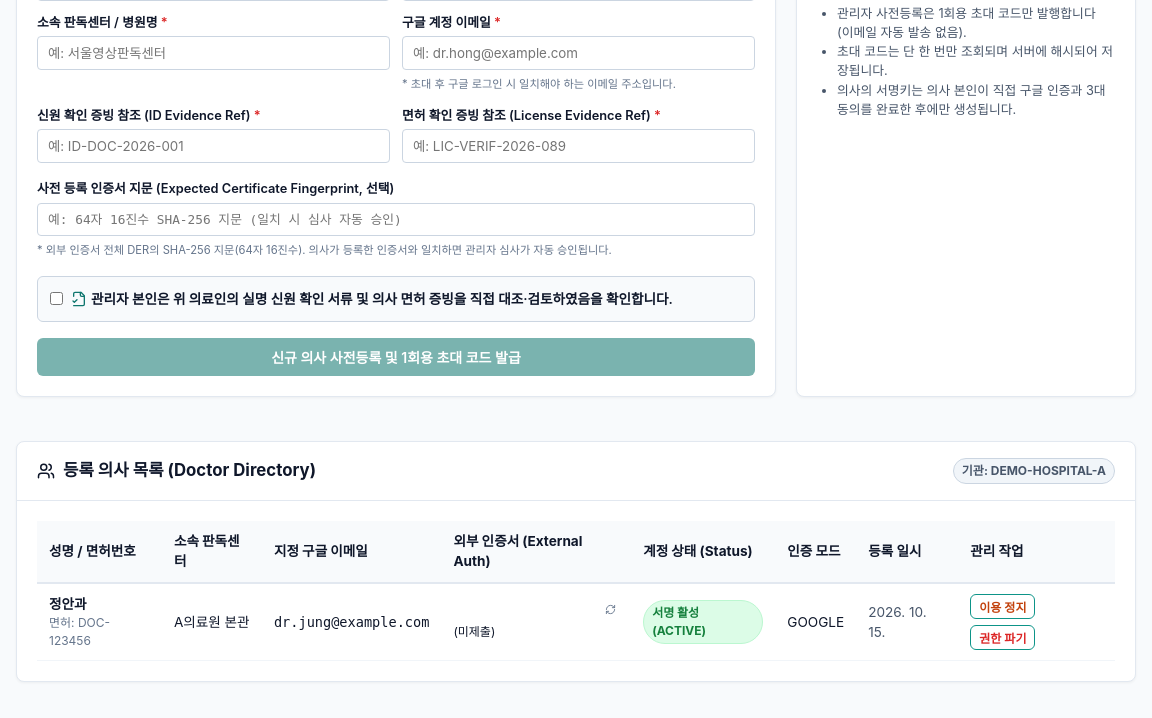
Test: DoctorAdminView Component Tests › renders directory with status chips and handles suspend action with required reason
The width and height of the screenshot is (1152, 718).
(page scrolled)
Expected: the text "정안과" is shown, [49,596,86,612]
Expected: the element with test id "status-chip-doc-active-1" shows "ACTIVE", [652,605,706,638]
# Click suspend button to open modal
Click the button with test id "suspend-btn-doc-active-1" at (1003, 606), box [970,594,1036,619]
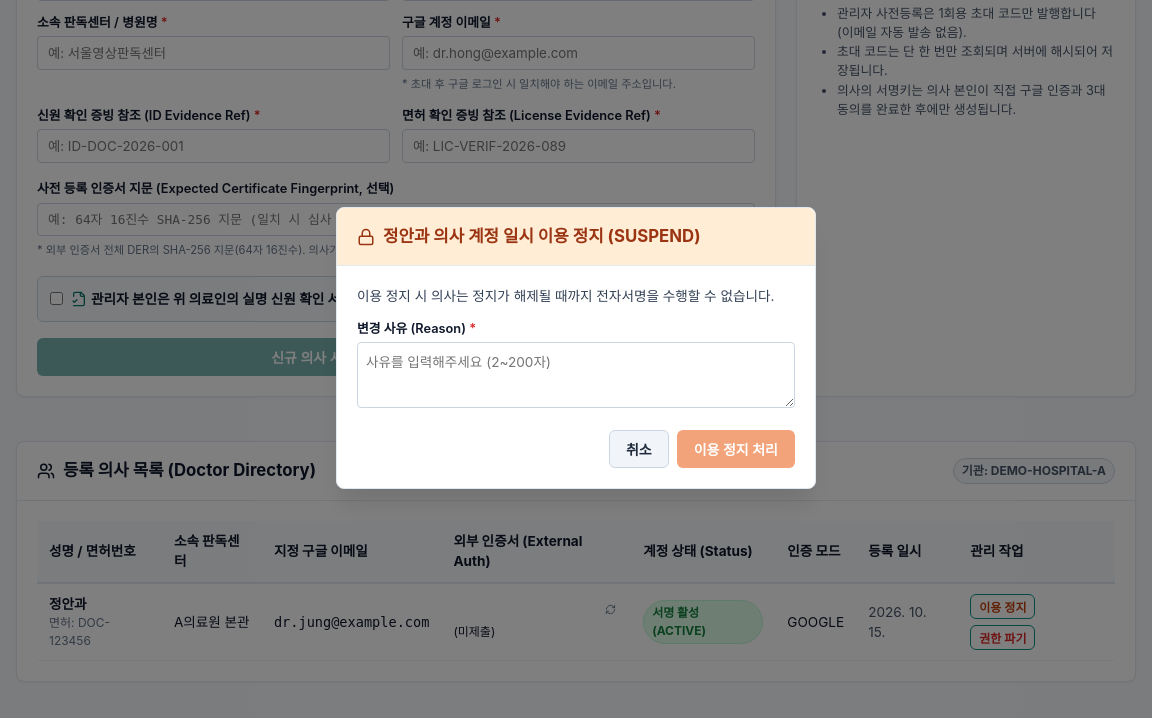
Expected: the button with test id "modal-confirm-btn" is disabled, [677,430,795,468]
Type "의사 요청으로 인한 일시 서명 중지" into the text box with test id "status-change-reason-input" at (576, 375), box [357,342,795,408]
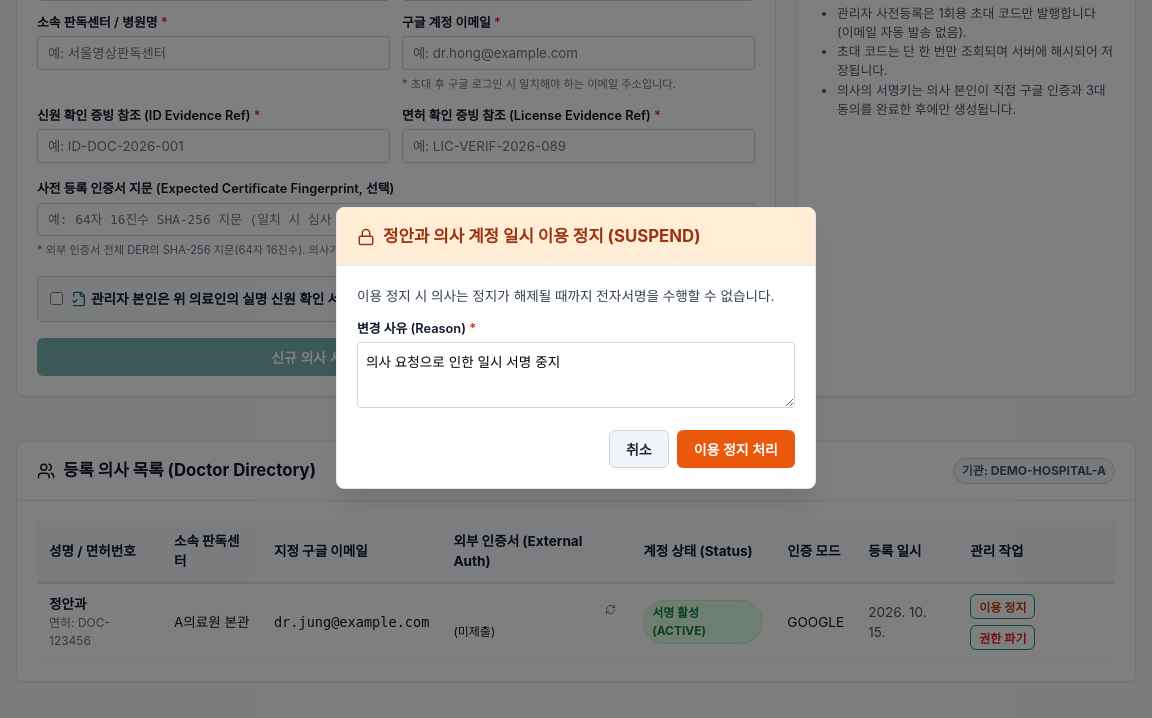
Expected: the button with test id "modal-confirm-btn" is enabled
# Submit suspension
Click the button with test id "modal-confirm-btn" at (736, 449), box [677,430,795,468]
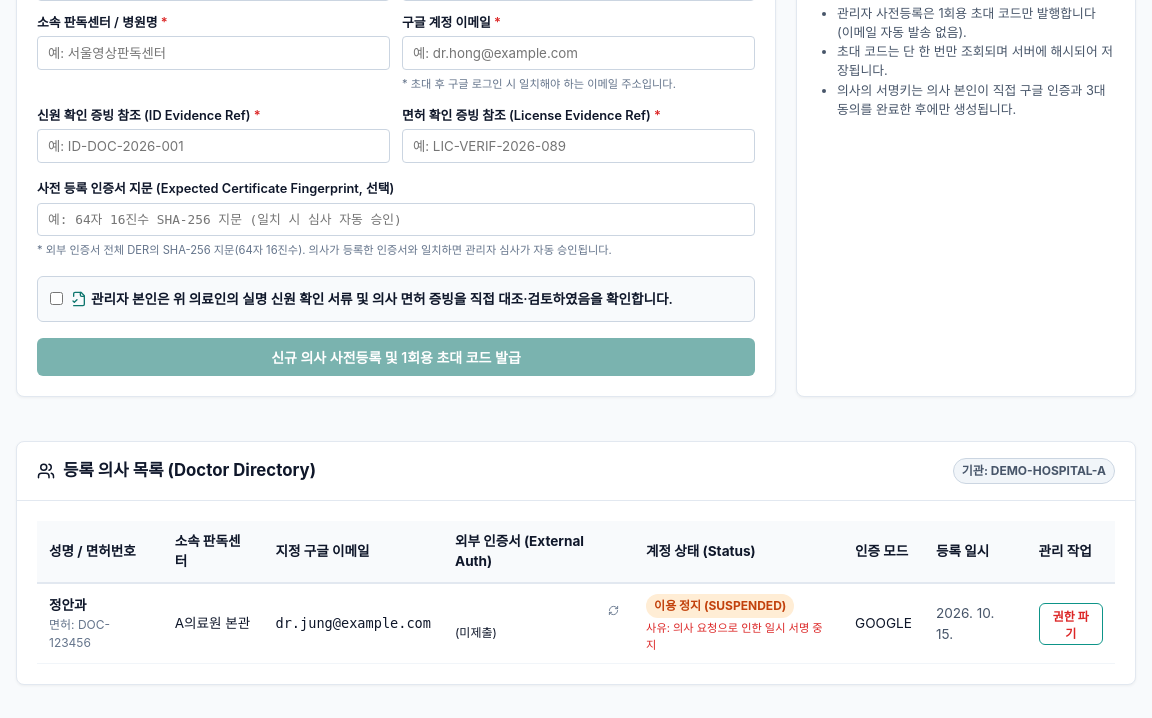
Expected: the element with test id "status-chip-doc-active-1" shows "SUSPENDED", [654,598,786,613]
